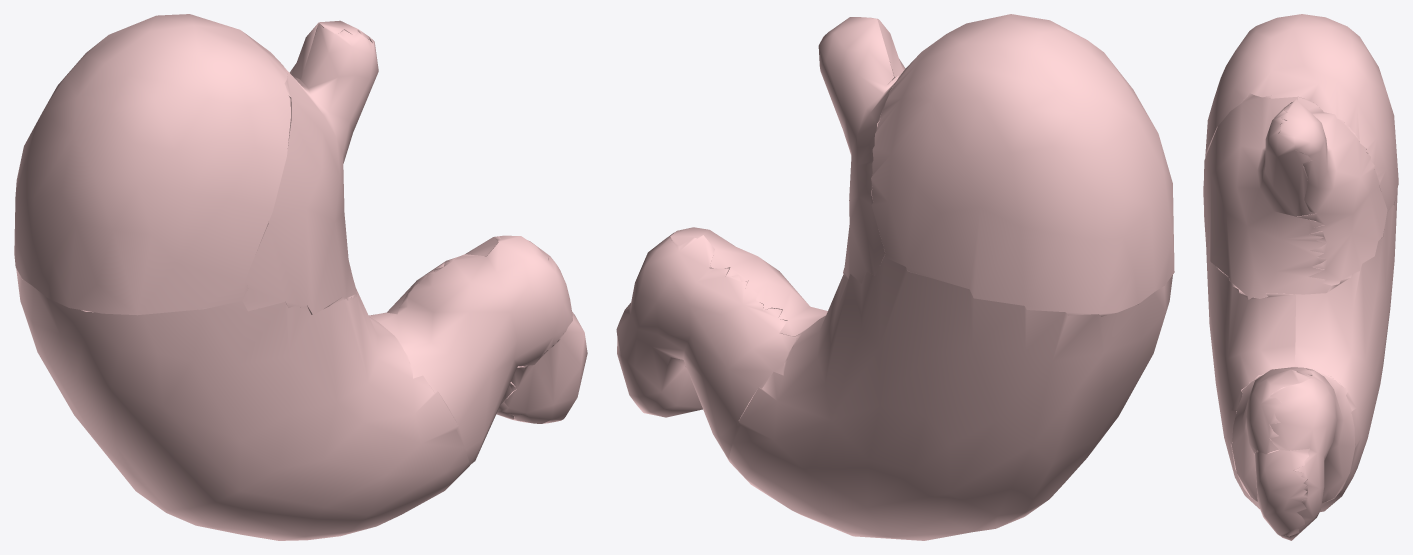
Rendered from organ.fbx.
The picture shows the model from 3 angles, left to right: view 1: azimuth 30°, elevation 25°; view 2: azimuth 150°, elevation 25°; view 3: azimuth 270°, elevation 25°; orthographic projection. The views are drawn at different scales.
Parts seen in each view (by area): view 1: root.001; view 2: root.001; view 3: root.001.
Part boxes in pixels (x1,y1,x2,y2): root.001: (14, 14, 587, 540); root.001: (616, 14, 1174, 540); root.001: (1203, 14, 1398, 540).
Bounding box in the file's own units: 328 × 313 × 133.
